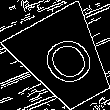O_SE: (30, 27, 99, 93)
